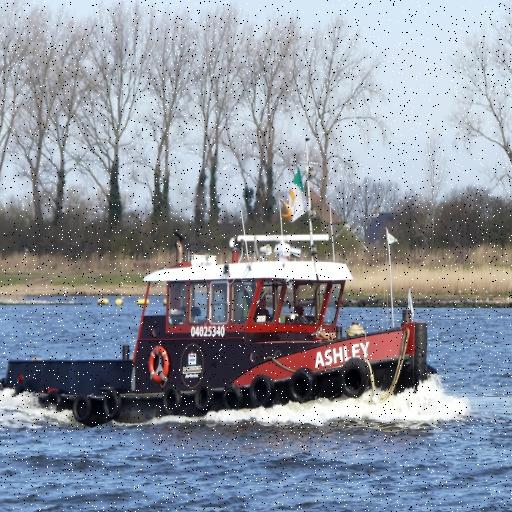tugboat: (1, 133, 441, 442)
